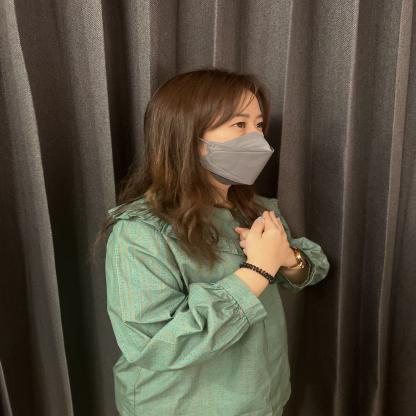Grieve: (137, 166, 359, 328)
